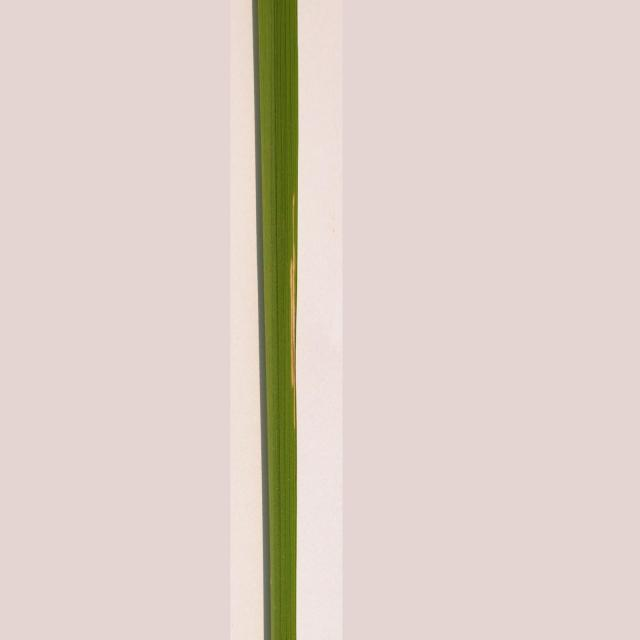Bacterial leaf blight: (232, 1, 340, 640)
